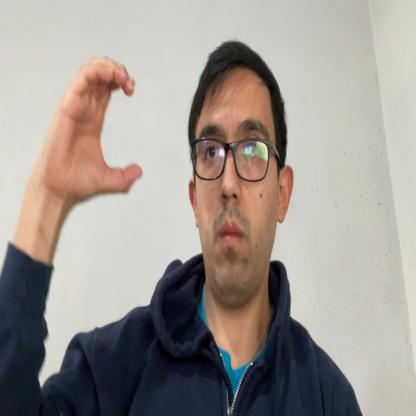C: (54, 55, 143, 204)
